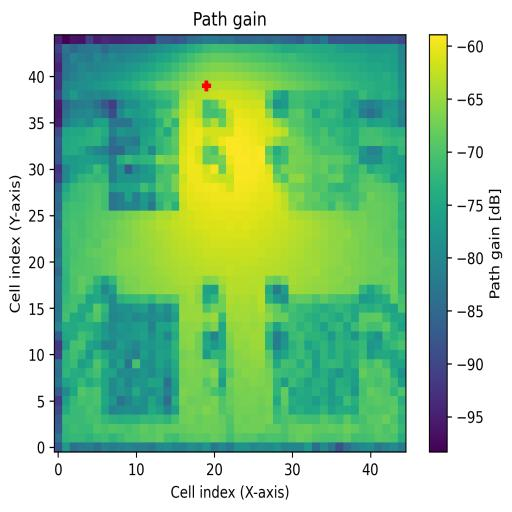Concrete: (289, 89, 359, 212)
Glass: (108, 98, 179, 210)
Metal: (281, 294, 360, 416)
Wood: (102, 294, 179, 416)
